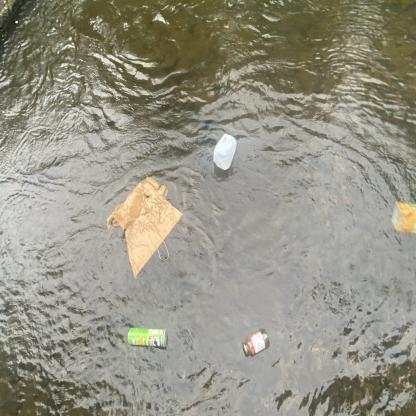trash: (105, 170, 187, 282), (207, 130, 240, 173), (124, 326, 171, 352), (388, 198, 416, 236), (240, 326, 272, 358)
